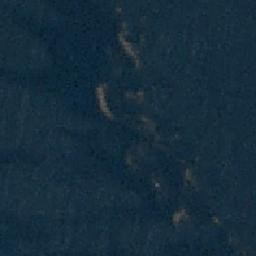debris: (117, 31, 142, 65), (94, 86, 113, 117), (122, 143, 137, 171), (171, 209, 189, 227), (127, 89, 146, 103), (182, 167, 195, 183), (131, 117, 157, 125), (150, 126, 157, 146), (153, 176, 162, 190), (212, 214, 221, 225)
